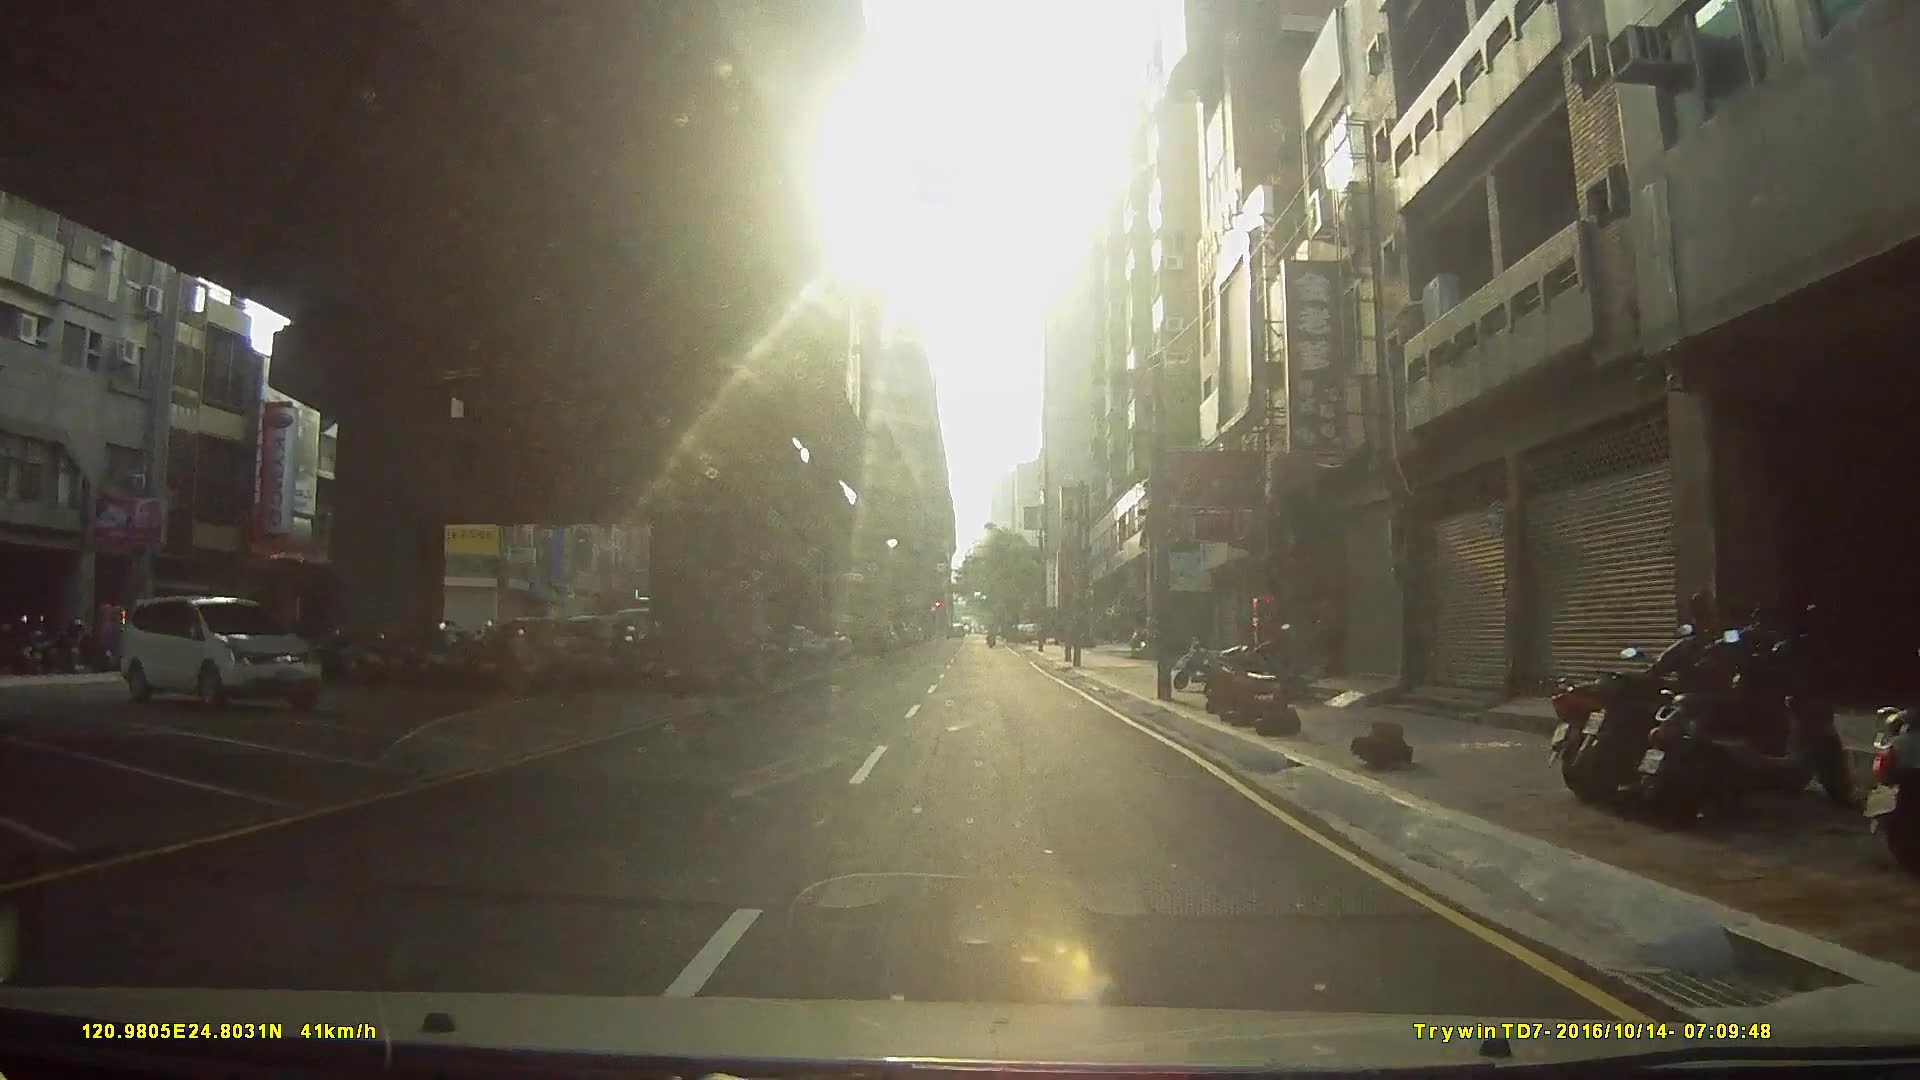vehicle: (117, 595, 322, 713)
